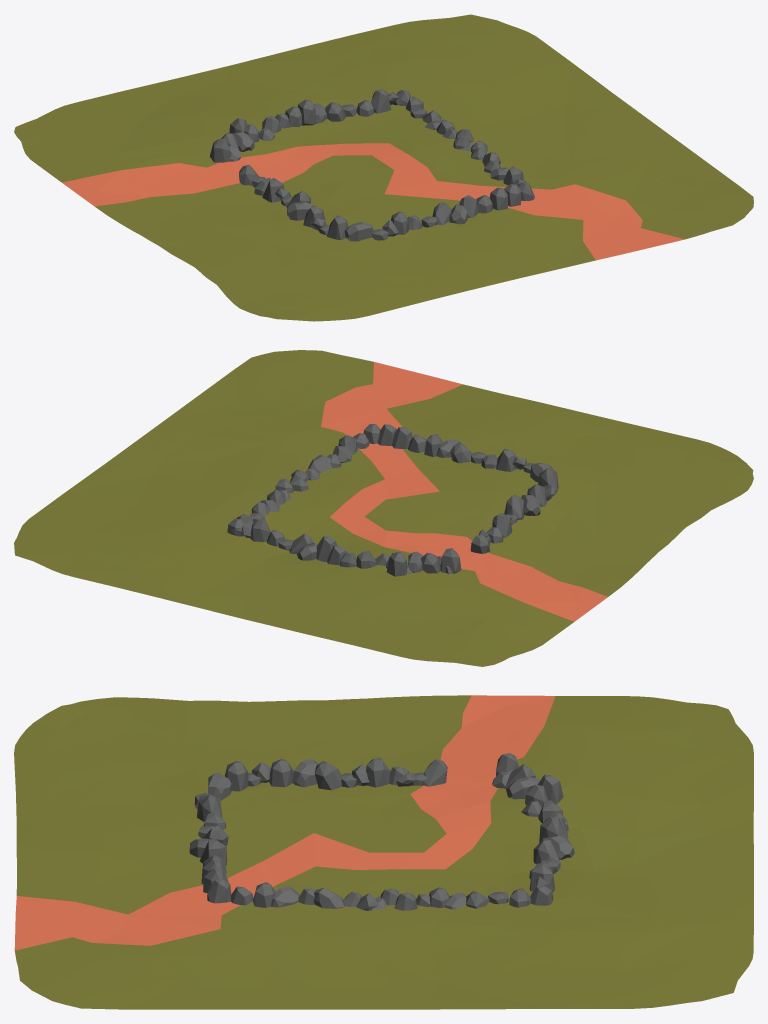
Rendered from PlayGround.fbx.
3 renders of one model, top to bottom at view 1: azimuth 30°, elevation 25°; view 2: azimuth 150°, elevation 25°; view 3: azimuth 270°, elevation 25°, orthographic. The views are drawn at different scales.
Visible parts, largest first — view 1: Ground_01.001; view 2: Ground_01.001; view 3: Ground_01.001, Rock_04.002, Rock_04.003, Rock_04.001, Rock_05.001, Rock_04.
Part boxes in pixels (x1,y1,x2,y2): Ground_01.001: (14,14,753,321); Ground_01.001: (14,350,753,666); Ground_01.001: (14,695,753,1009); Rock_04.002: (314,760,341,790); Rock_04.003: (366,757,390,787); Rock_04.001: (268,759,293,787); Rock_05.001: (292,759,318,787); Rock_04: (225,761,248,791).
Size of the model in its own units: 59.53 by 59.48 by 4.29.
